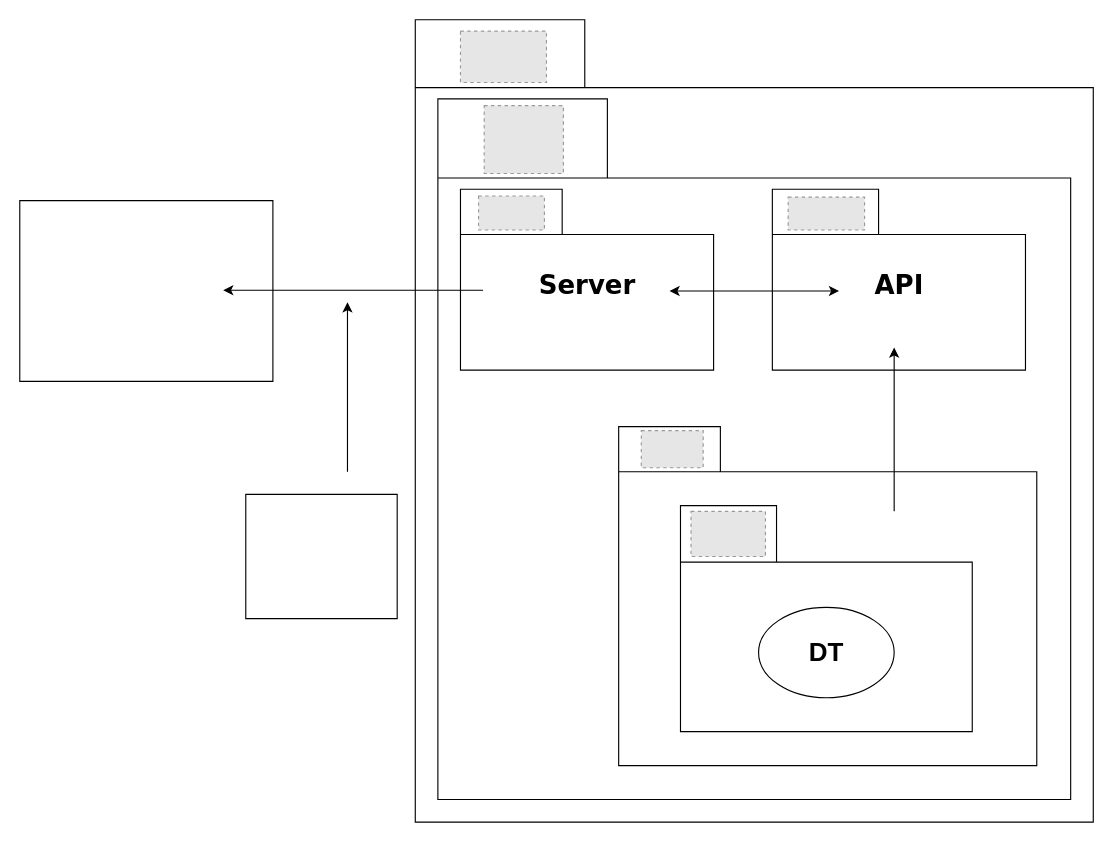
Some shapes in this 1113 by 842 pixel diagram are drawn without their labels. Grey dashed boxes stand in for pictures. Each missing label, with the centre of its shape:
"Client" goes at (146,290).
"ELB" goes at (321,556).
